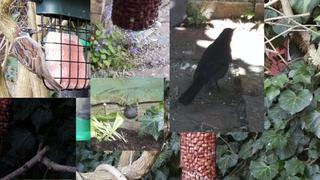blackbird: (177, 27, 238, 106)
sparrow: (12, 27, 64, 93), (120, 104, 137, 121)
